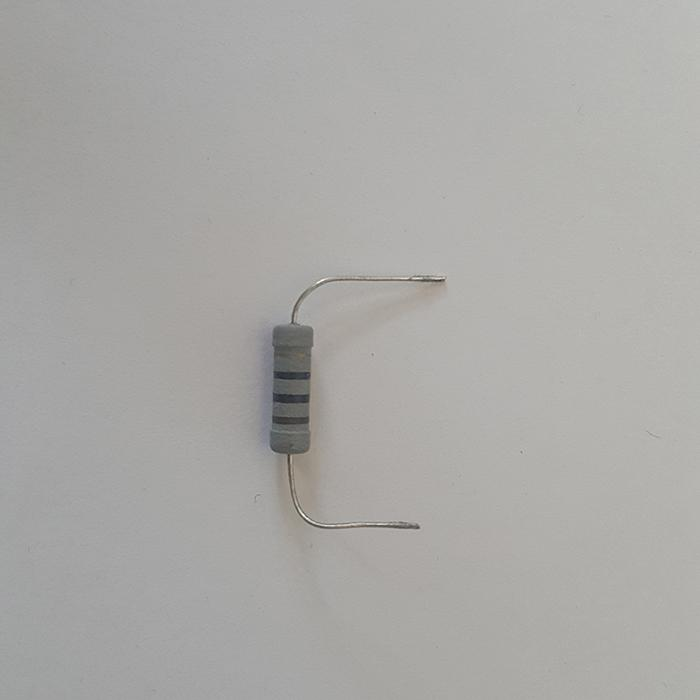resistor: (268, 322, 314, 455)
